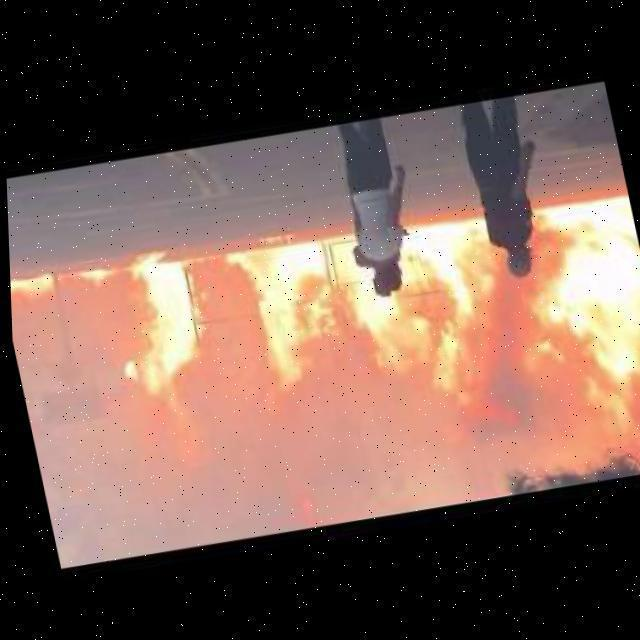fire: (318, 230, 509, 411), (516, 165, 640, 434), (98, 239, 222, 411), (219, 239, 343, 406)
